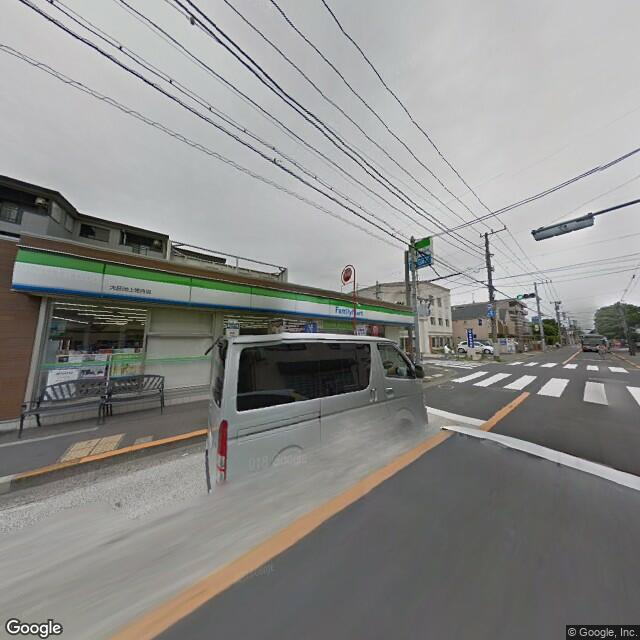family_mart: (12, 245, 418, 326), (416, 236, 433, 268)
